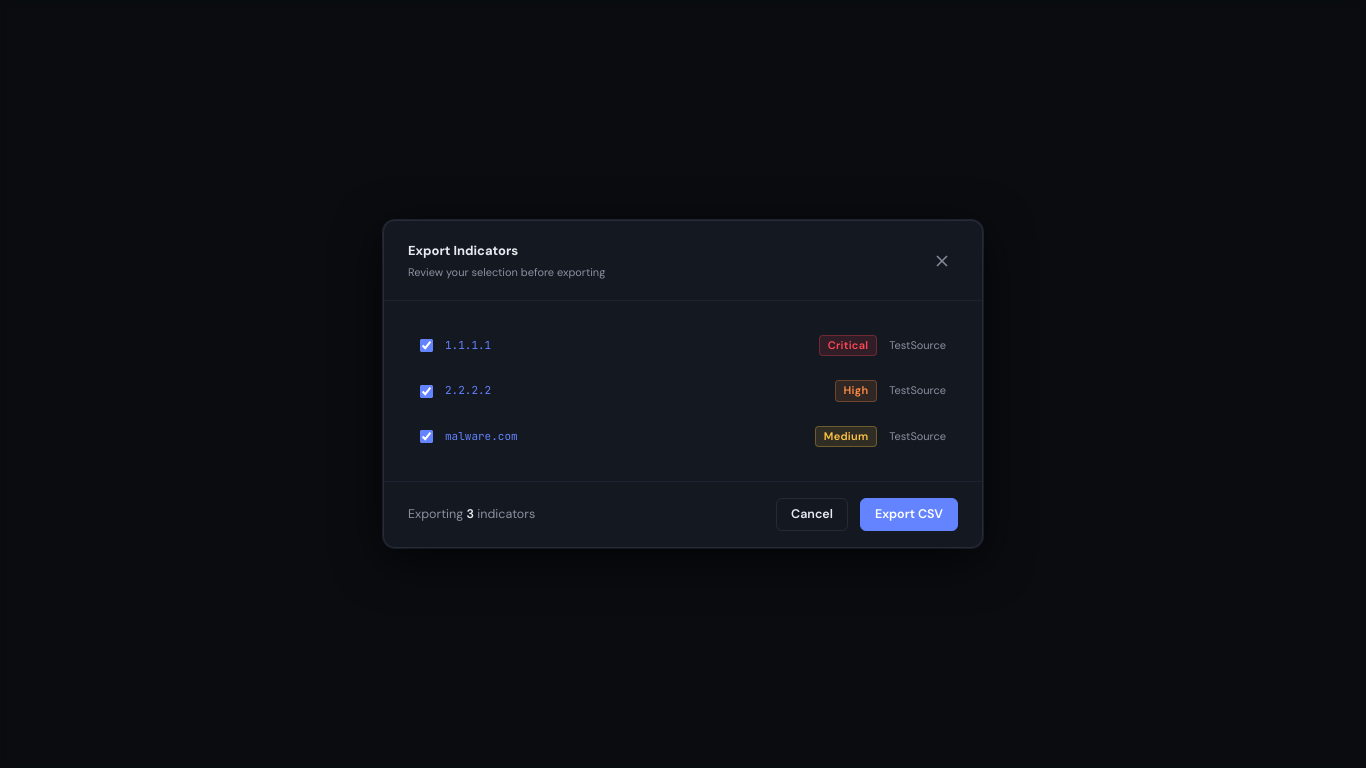
it: ExportModal › updates count when checkbox is unchecked
The image size is (1366, 768).
Click the checkbox labelled "1.1.1.1 critical TestSource" at point(426, 346), box [420,339,433,352]
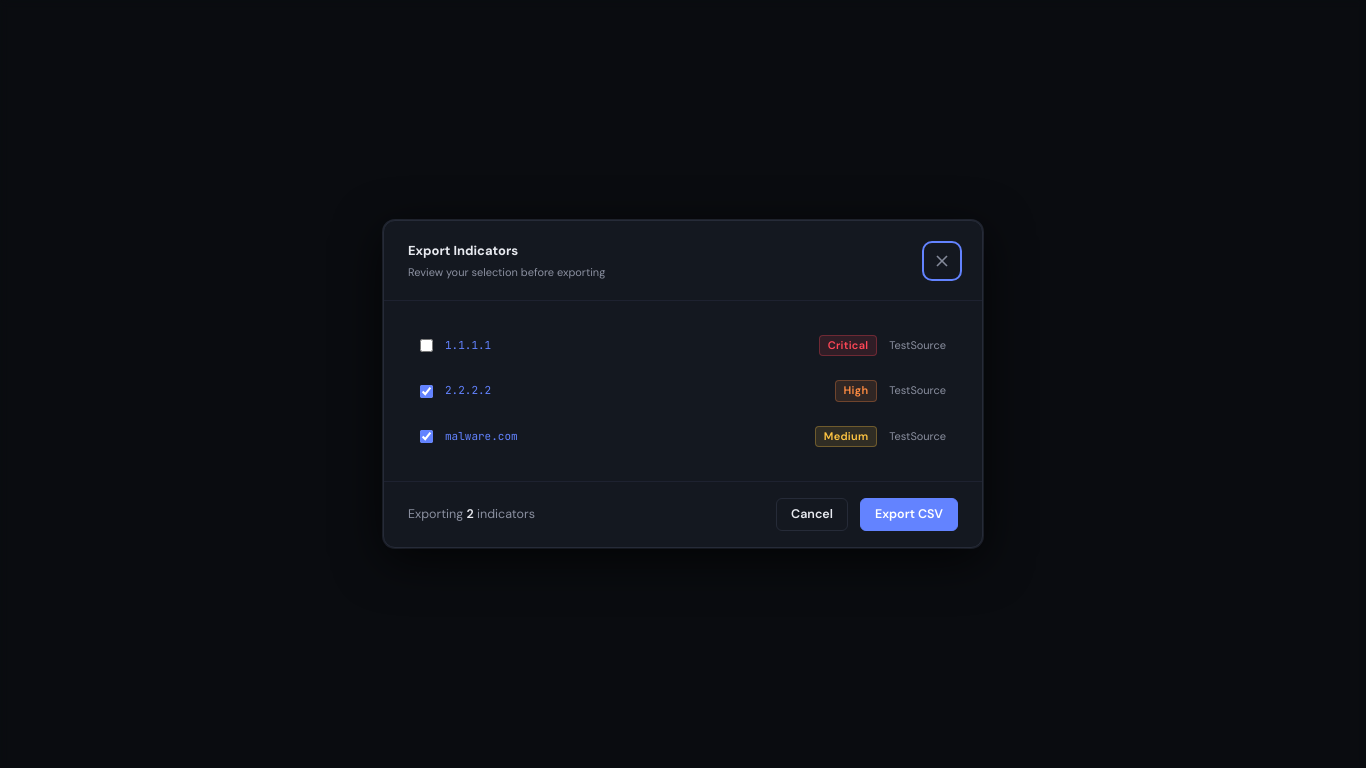
Now the text "2" is shown, box [466,506,474,522]
